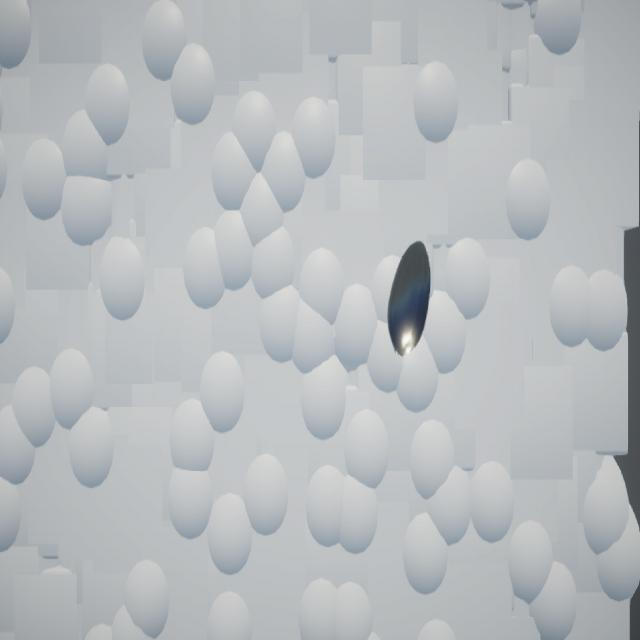top_spoon: (388, 242, 432, 359)
